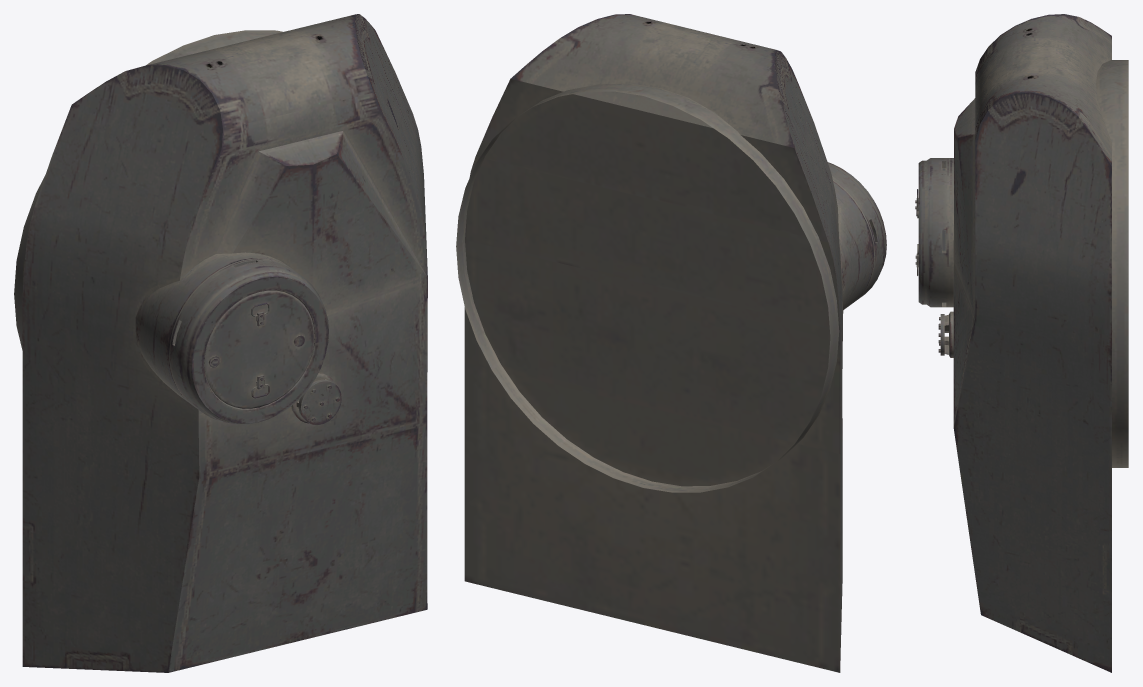
Rendered from Turret_01.glb.
3 renders of one model, left to right at view 1: azimuth 30°, elevation 25°; view 2: azimuth 150°, elevation 25°; view 3: azimuth 270°, elevation 25°, orthographic. The views are drawn at different scales.
Visible parts, largest first — view 1: set_0_group_0; view 2: set_0_group_0; view 3: set_0_group_0.
Part boxes in pixels (x1,y1,x2,y2): set_0_group_0: (14, 14, 427, 672); set_0_group_0: (456, 14, 886, 672); set_0_group_0: (915, 14, 1128, 672).
Bounding box in the file's own units: 2.86 × 4.09 × 1.48.
Materials: 1 (1 with a texture image).
